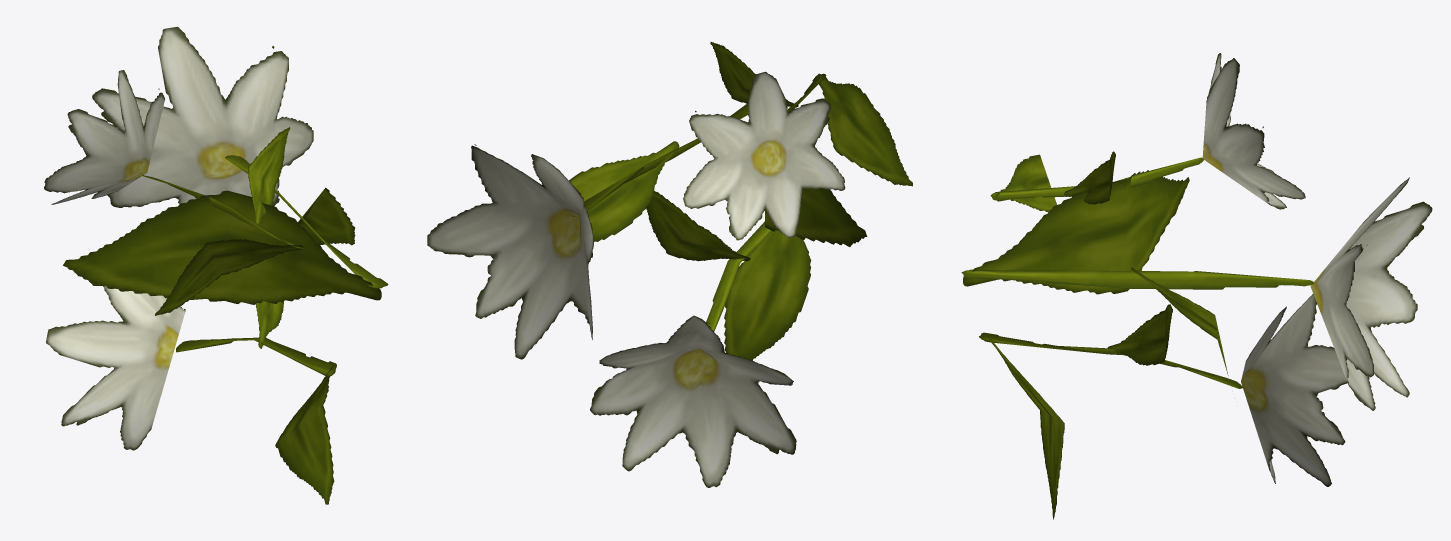
File: flowers_white.fbx
The picture shows the model from 3 angles, left to right: view 1: azimuth 30°, elevation 25°; view 2: azimuth 150°, elevation 25°; view 3: azimuth 270°, elevation 25°; orthographic projection.
Visible parts, largest first — view 1: flower_white_group; view 2: flower_white_group; view 3: flower_white_group.
Part boxes in pixels (x1,y1,x2,y2): flower_white_group: [44, 27, 388, 504]; flower_white_group: [427, 42, 912, 487]; flower_white_group: [961, 53, 1432, 519].
Bounding box in the file's own units: 2.24 × 2.7 × 2.48.
